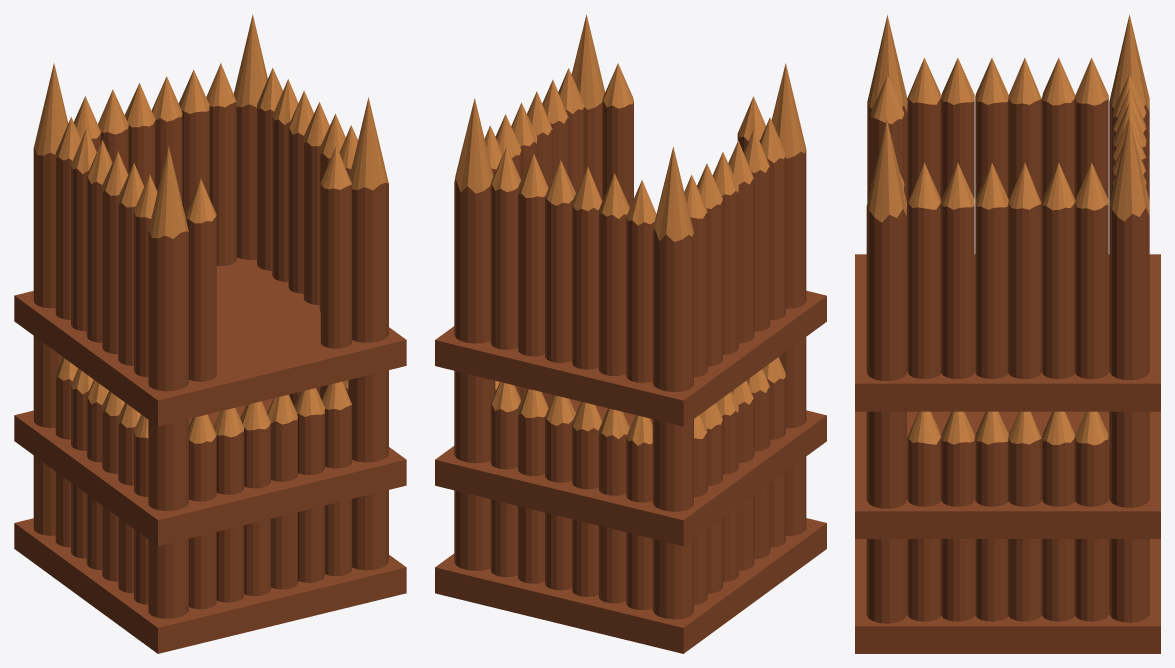
The model's file is wooden_fortress_no_ladder.fbx.
The picture shows the model from 3 angles, left to right: view 1: azimuth 30°, elevation 25°; view 2: azimuth 150°, elevation 25°; view 3: azimuth 270°, elevation 25°; orthographic projection. The views are drawn at different scales.
Visible parts, largest first — view 1: Cylinder.005; view 2: Cylinder.005; view 3: Cylinder.005.
Boxes of the visible parts, left/top/right/bottom form: Cylinder.005: left=14, top=14, right=406, bottom=653; Cylinder.005: left=435, top=14, right=826, bottom=653; Cylinder.005: left=855, top=14, right=1160, bottom=653.
Size of the model in its own units: 360 by 680 by 360.
